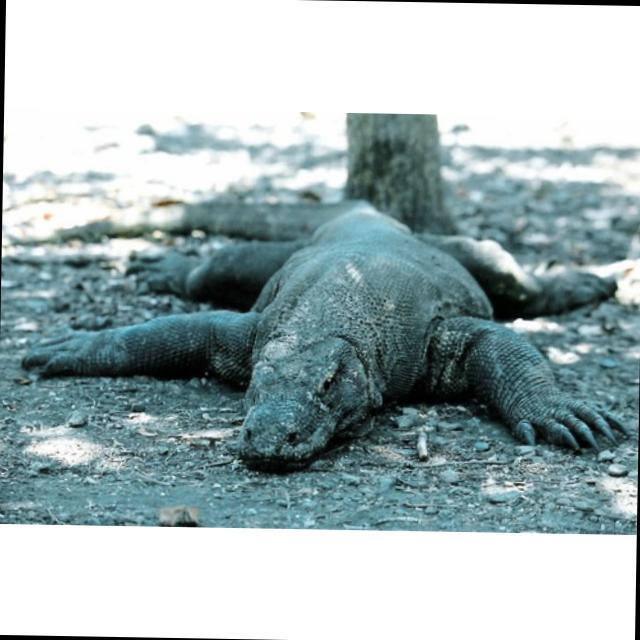KomodoDragon: (19, 190, 637, 476)
